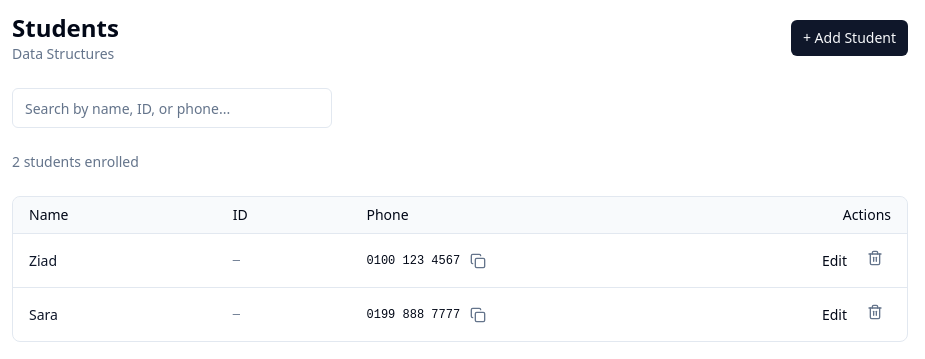
Test: Students › filters table rows by phone number
Type "888" into the field with placeholder "Search by name, ID, or phone..." at (172, 108), box left=12, top=88, right=332, bottom=128
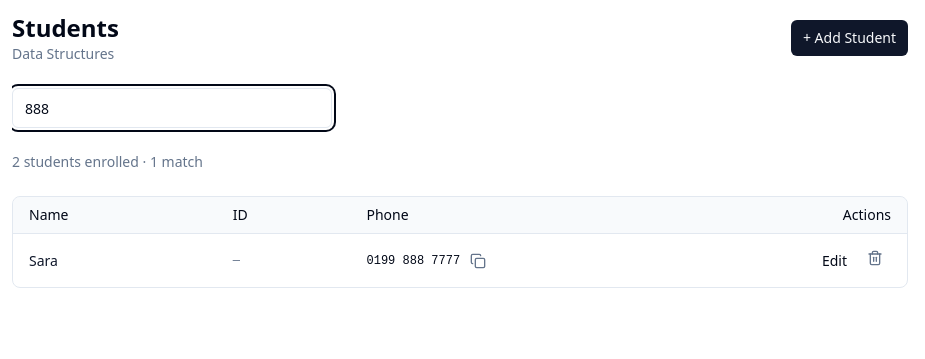
Expected: the text "Sara" is shown, left=13, top=234, right=217, bottom=287
Now the text "Ziad" is gone
